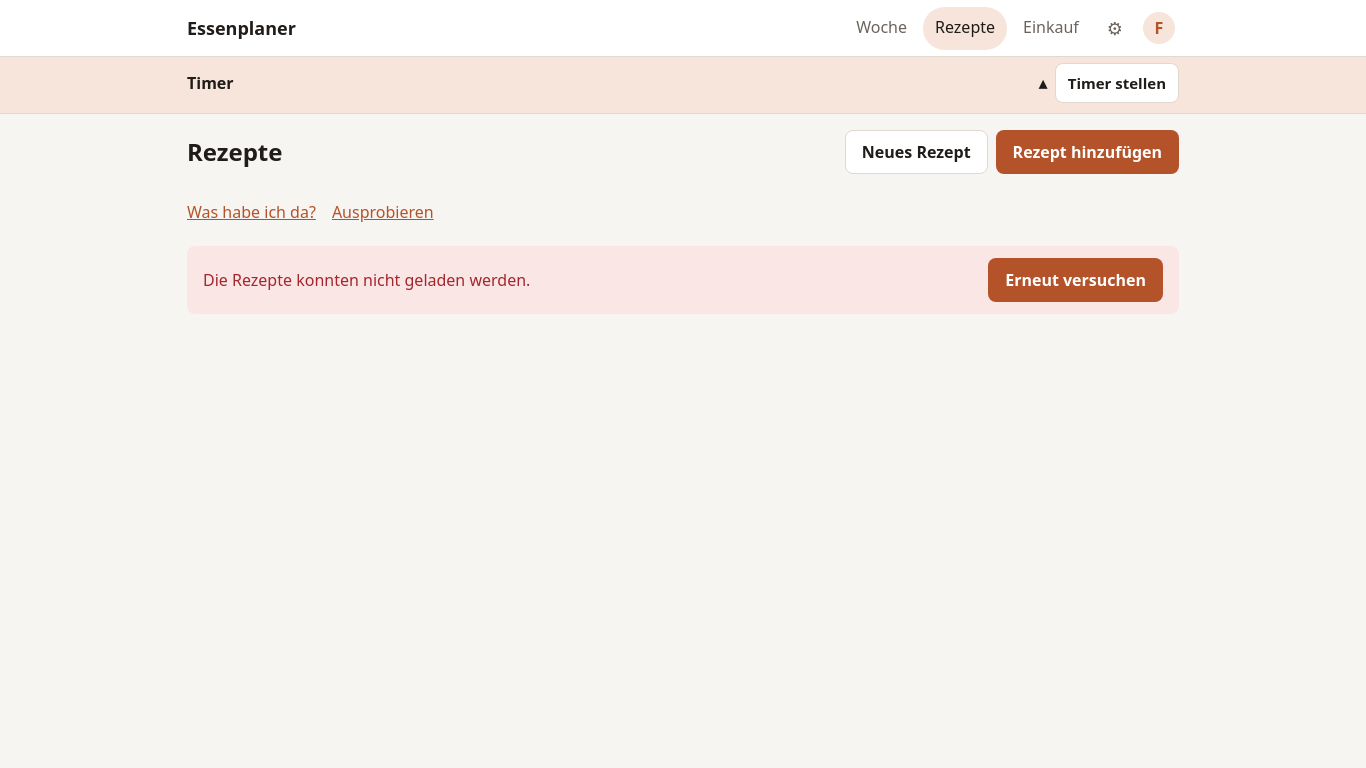
Test case: Rezeptliste › zeigt eine Fehlermeldung, wenn das Laden fehlschlägt
Expected: the message shows "Die Rezepte konnten nicht geladen werden.", [203,269,530,291]
Click the button "Erneut versuchen". click: (1076, 280)
box: [988,258,1163,302]
(page scrolled)
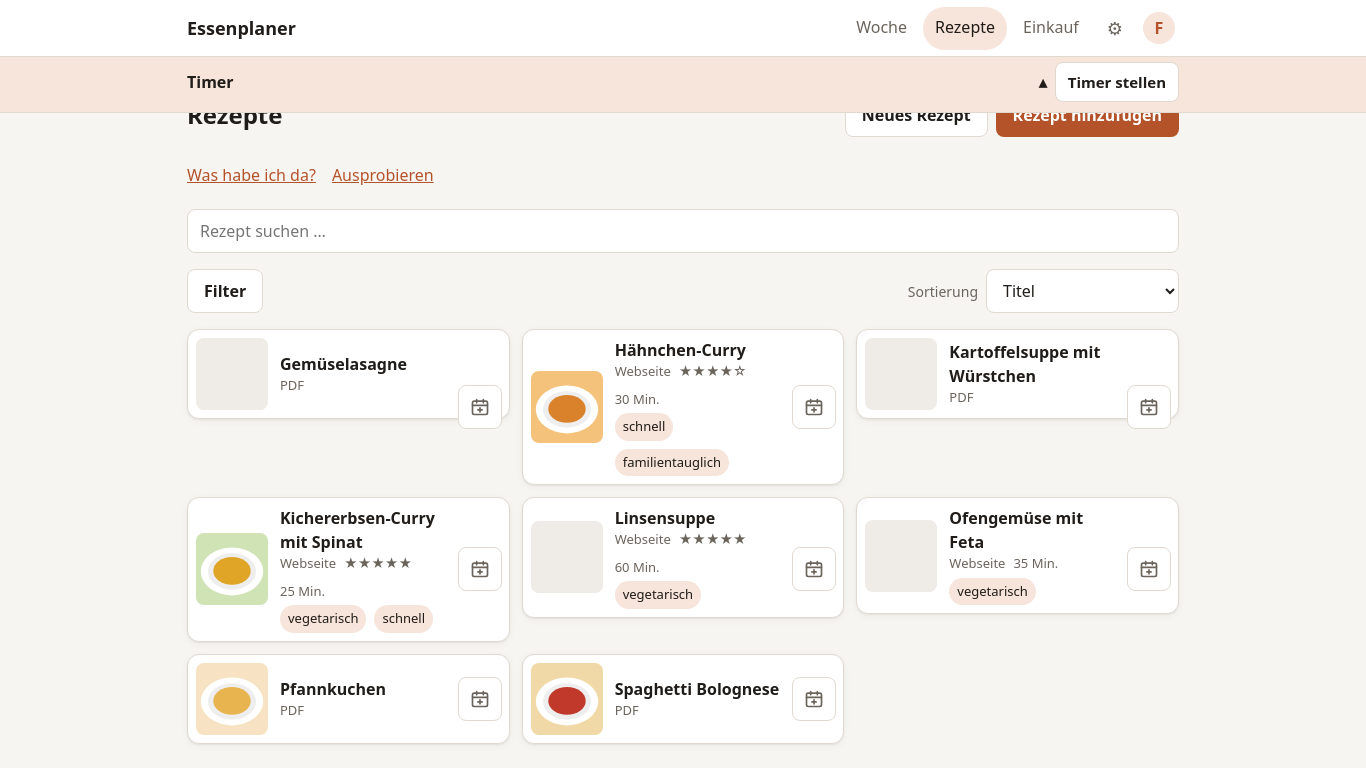
Expected: the link "Pfannkuchen PDF" is shown, [187,654,510,744]
